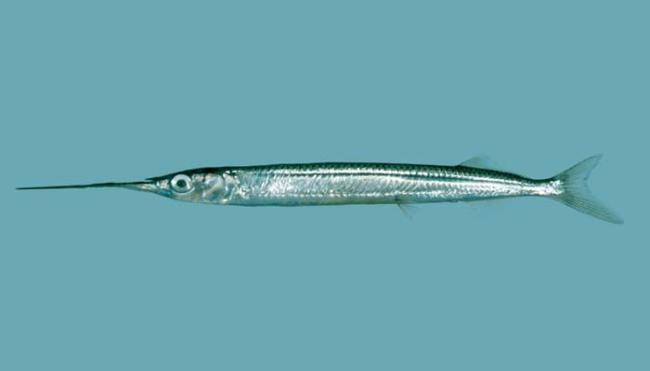fish: (14, 154, 626, 227)
